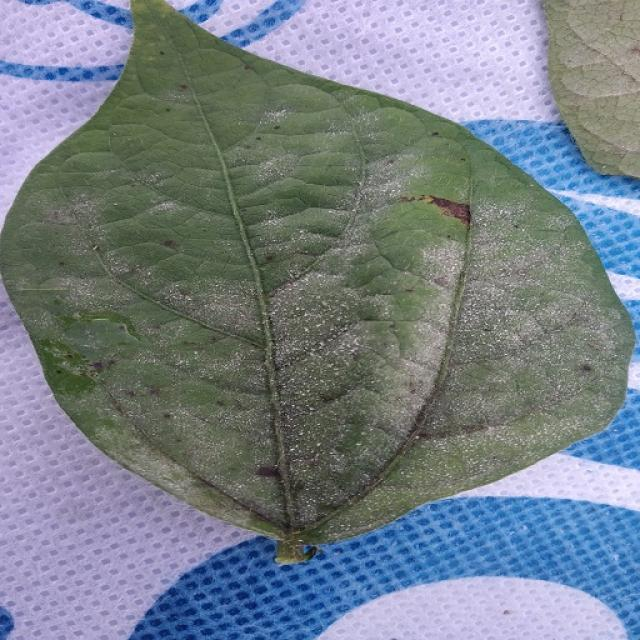Blackgram: (0, 0, 634, 562)
Powdery_Mildew: (432, 215, 606, 429), (274, 274, 381, 461), (460, 209, 577, 309), (237, 117, 333, 194), (173, 267, 260, 324), (161, 328, 232, 379), (63, 190, 108, 227), (123, 165, 176, 192), (285, 428, 318, 459), (146, 201, 188, 220), (294, 490, 321, 515), (163, 89, 200, 106), (262, 107, 292, 125), (520, 226, 526, 232)
